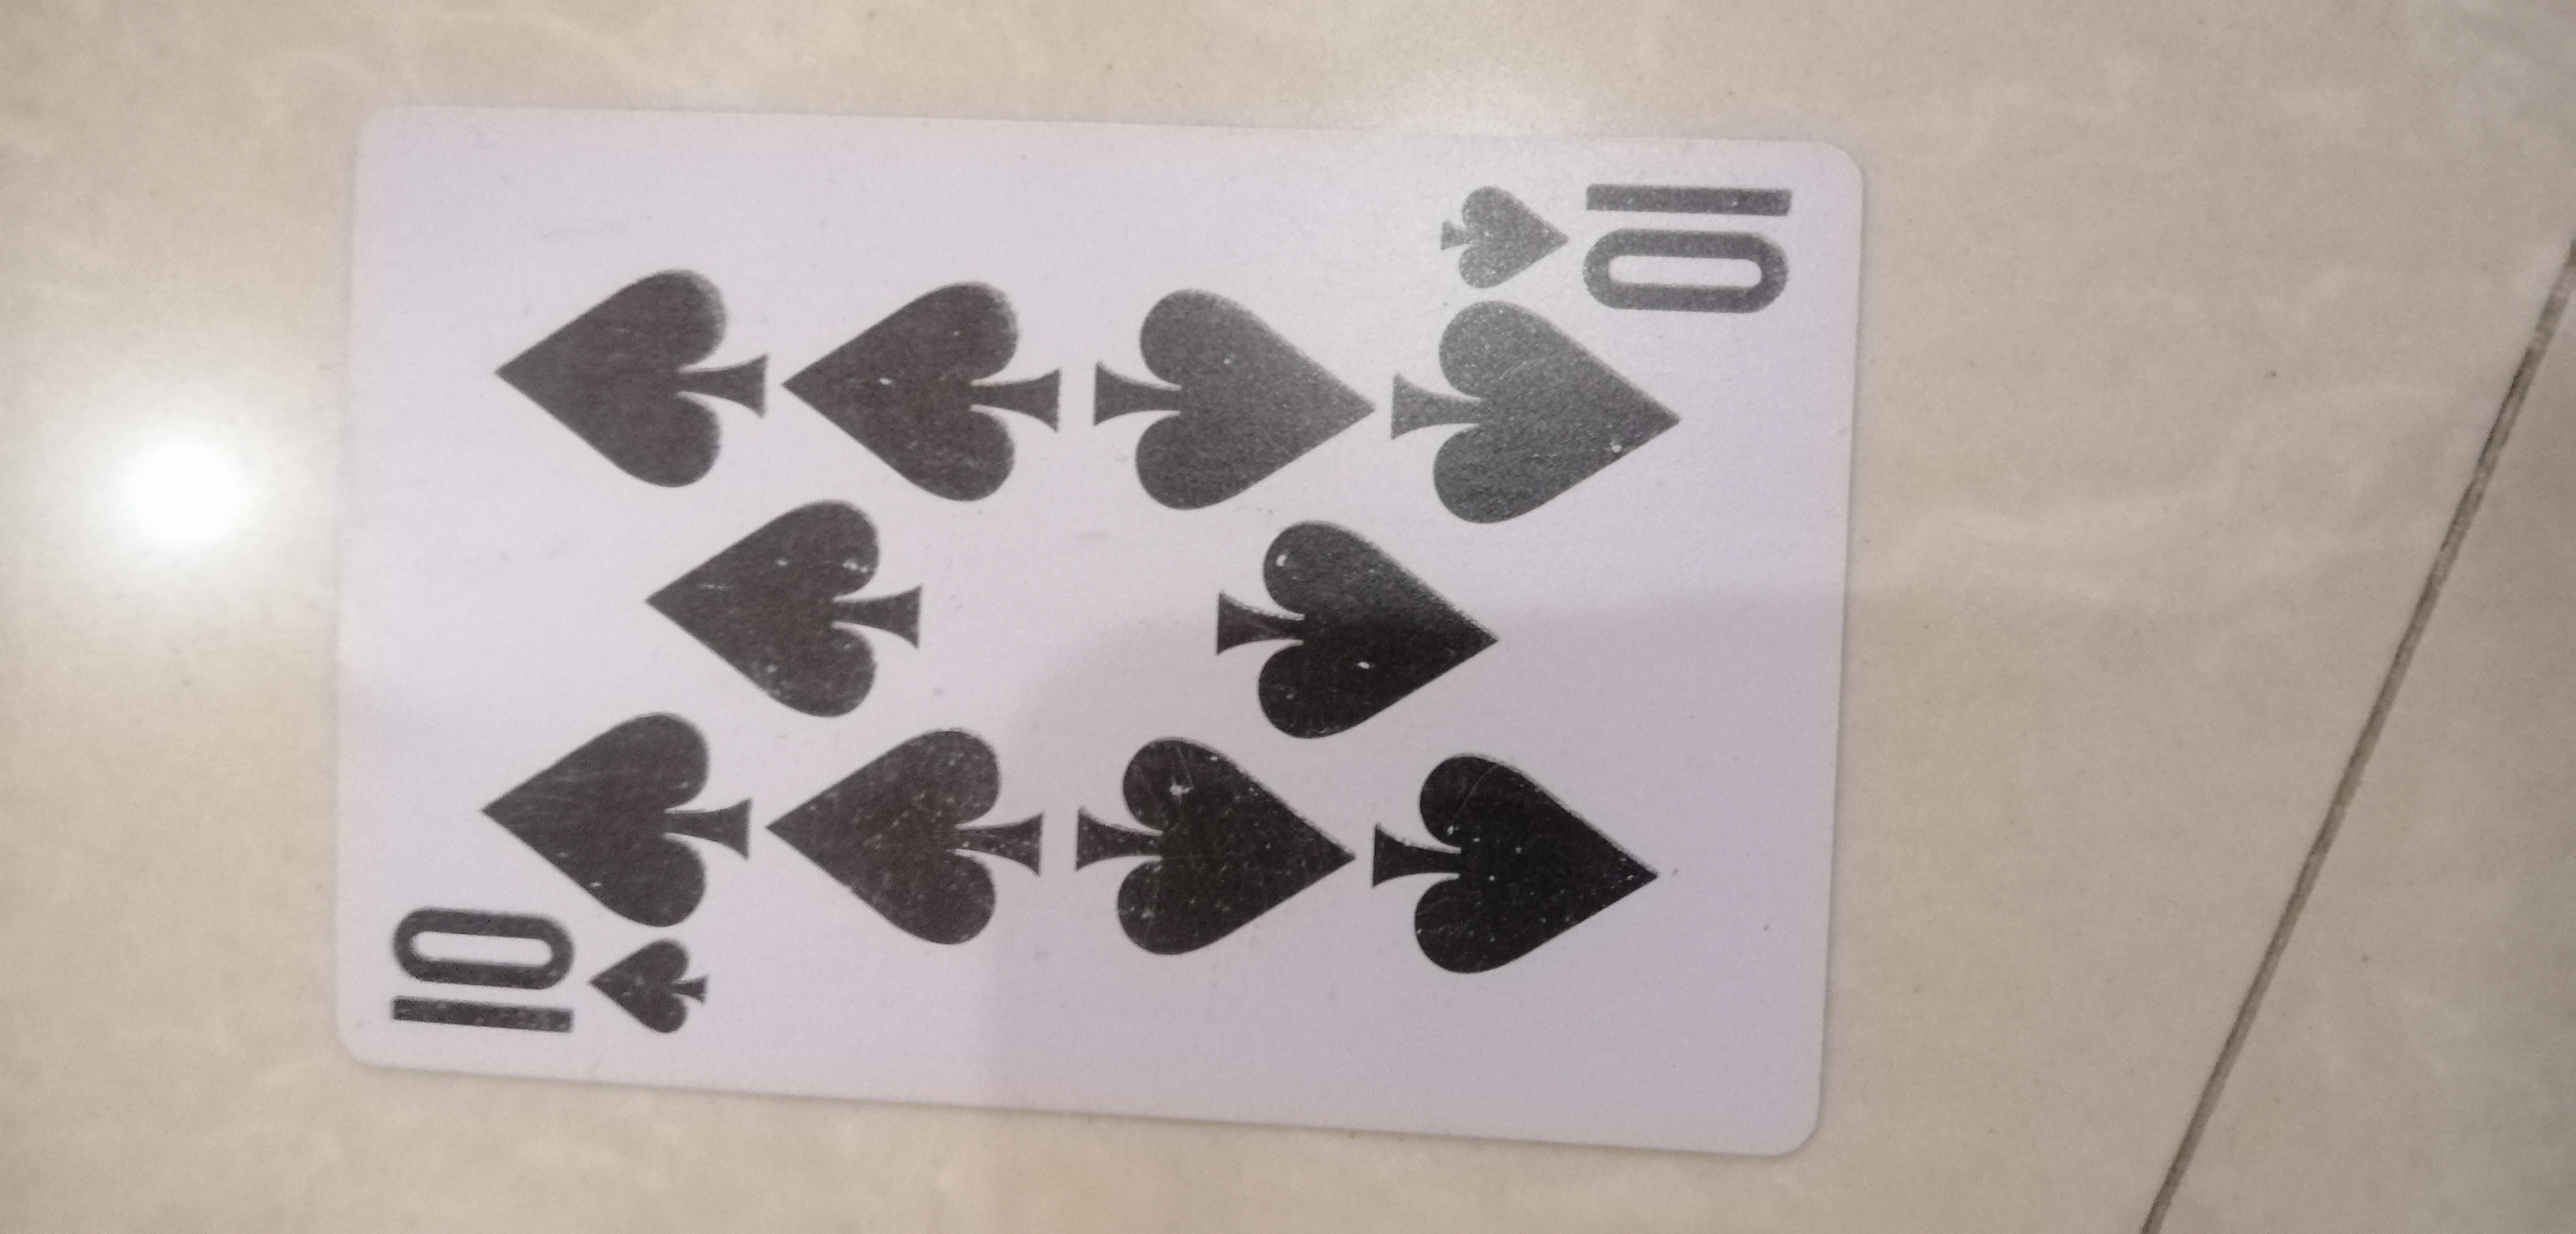ten: (304, 107, 1860, 1158)
